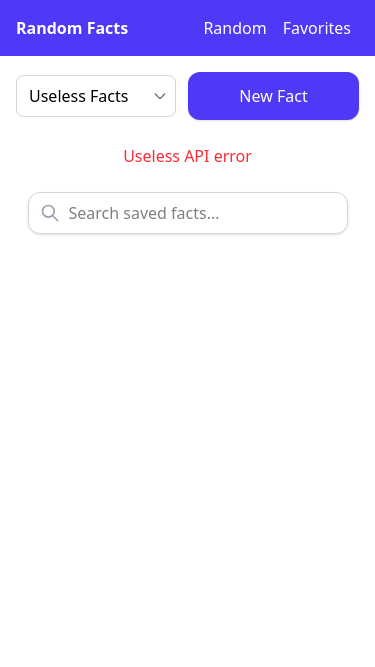
Random Facts Dashboard – Favorites flows › generates a random fact and adds it to Recent Picks
The width and height of the screenshot is (375, 667).
Click the button "New Fact". click: (274, 96)
box: [188,72,359,120]
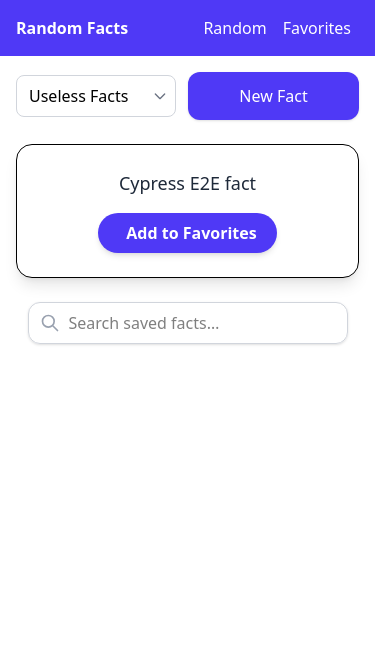
Click the button "Add to Favorites". click: (187, 233)
box: [98,213,276,253]
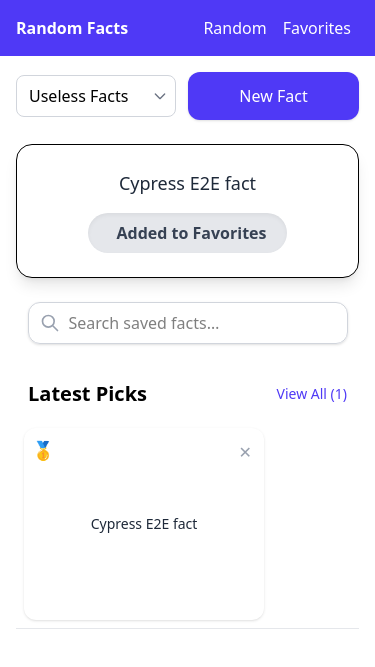
Result: the heading "Latest Picks" is shown at [28,380,147,408]
Result: the text "Cypress E2E fact" below "Latest Picks" is shown at [91,514,198,533]
